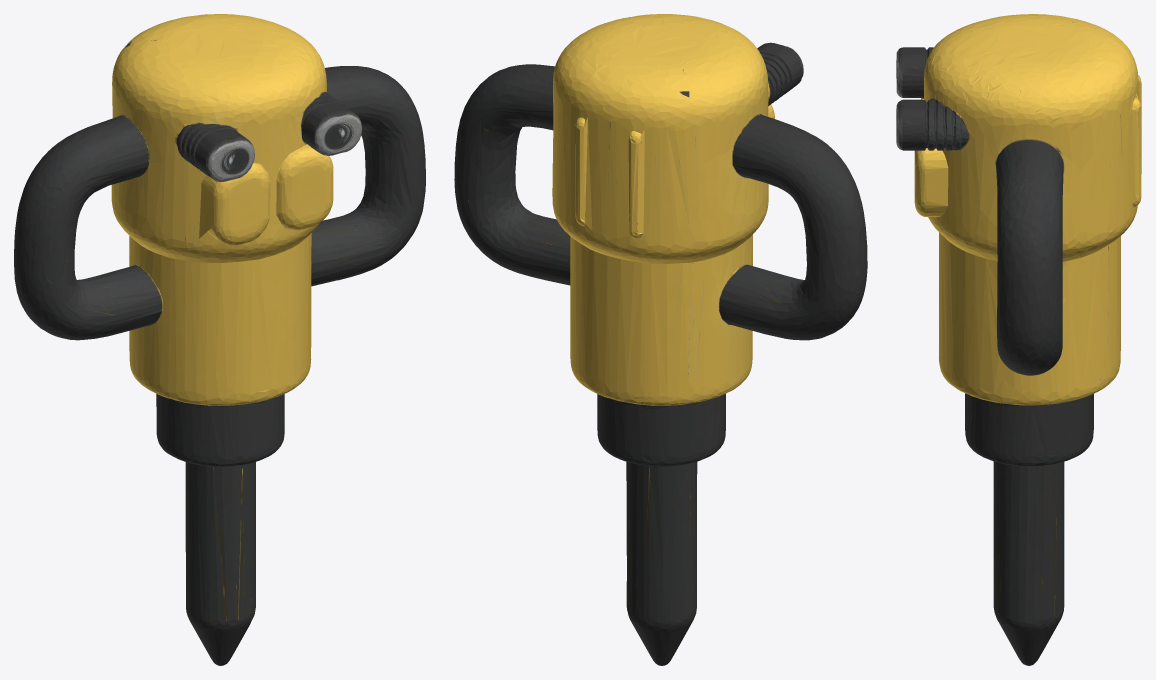
File: jackhammer_v1.glb
3 renders of one model, left to right at view 1: azimuth 30°, elevation 25°; view 2: azimuth 150°, elevation 25°; view 3: azimuth 270°, elevation 25°, orthographic.
Parts seen in each view (by area): view 1: body_mesh, bit_mesh; view 2: body_mesh, bit_mesh; view 3: body_mesh, bit_mesh.
Part boxes in pixels (x1,y1,x2,y2): body_mesh: (14,14,425,458); bit_mesh: (156,394,284,665); body_mesh: (454,14,867,456); bit_mesh: (597,394,725,665); body_mesh: (896,14,1141,458); bit_mesh: (965,394,1093,665).
Size of the model in its own units: 0.7 by 1.03 by 0.3679.
1 material, 1 textured.
